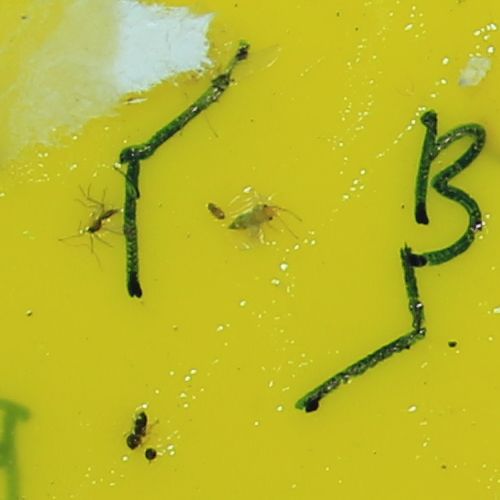Glycaspis: (226, 201, 283, 231)
